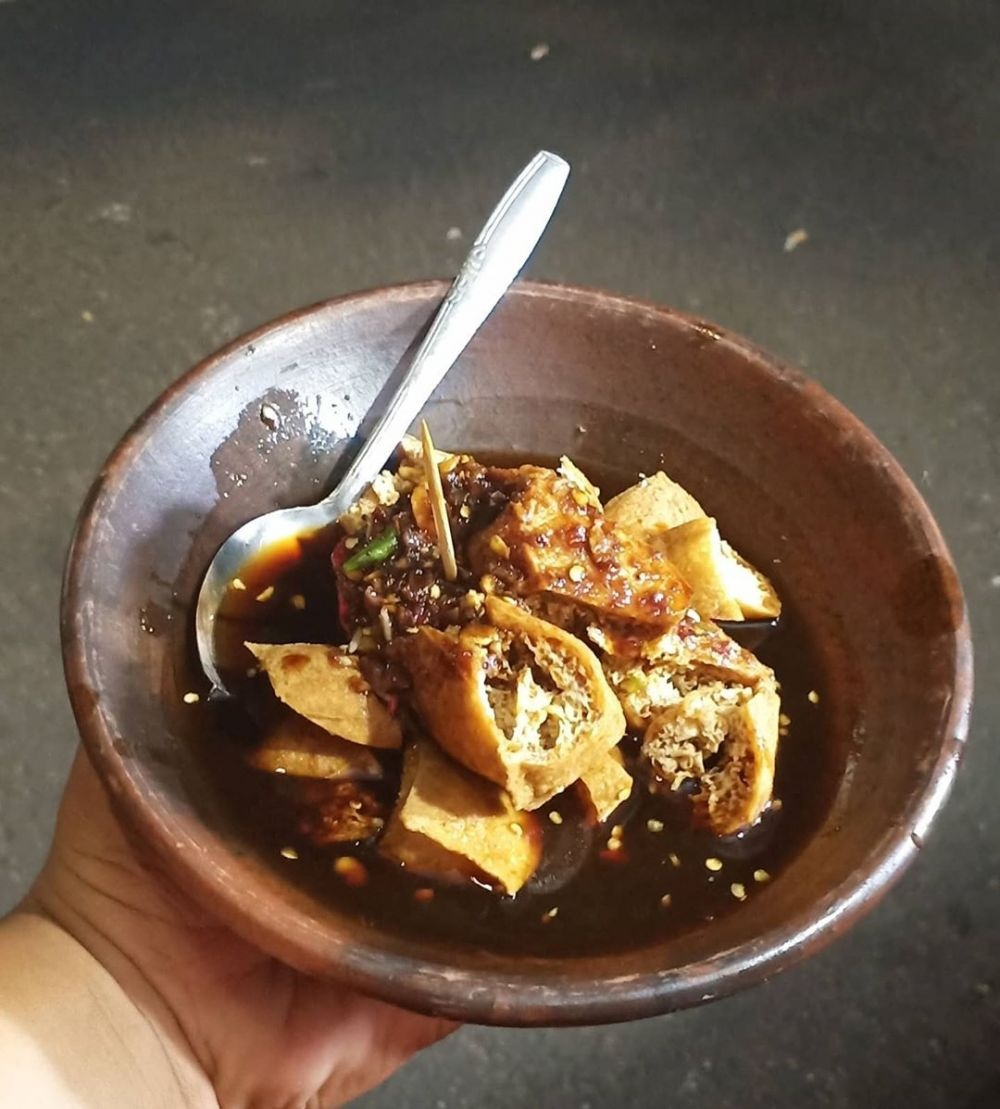tahu_gejrot: (222, 396, 862, 958)
